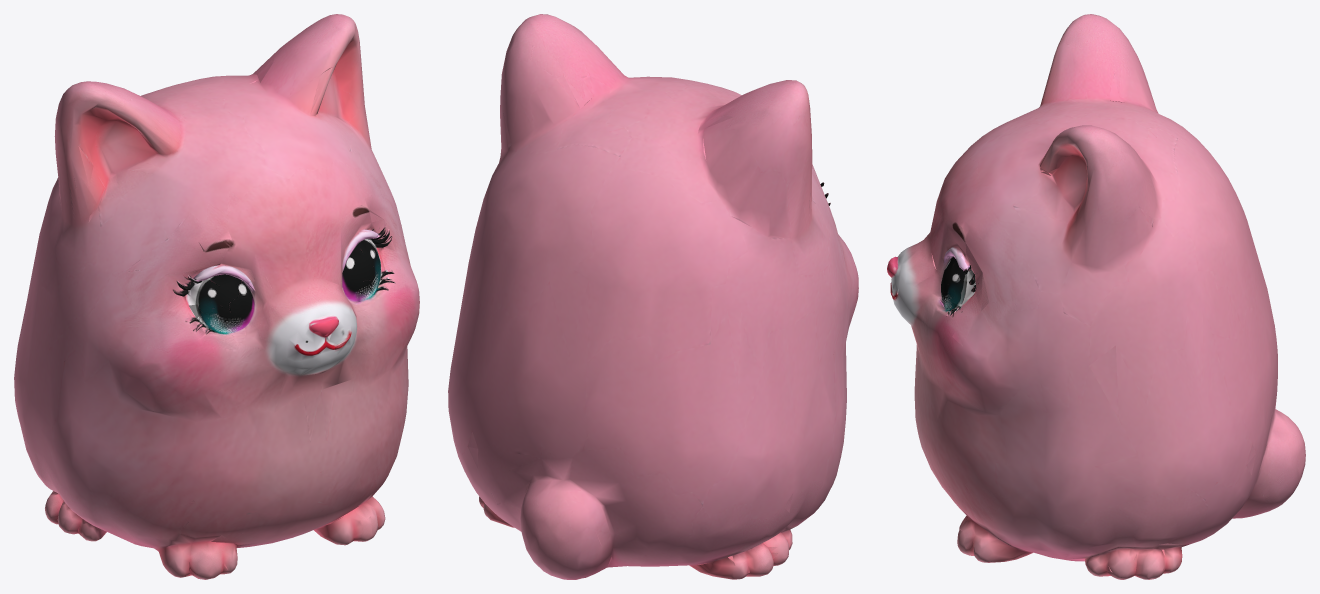
The model's file is addy_squishy.obj.
3 views of the same model, side by side, from view 1: azimuth 30°, elevation 25°; view 2: azimuth 150°, elevation 25°; view 3: azimuth 270°, elevation 25° (orthographic). The views are drawn at different scales.
Visible parts, largest first — view 1: model; view 2: model; view 3: model.
Part boxes in pixels (x1,y1,x2,y2): model: [14, 14, 419, 579]; model: [448, 14, 858, 579]; model: [887, 14, 1305, 579].
Size of the model in its own units: 1.46 by 1.9 by 1.63.
